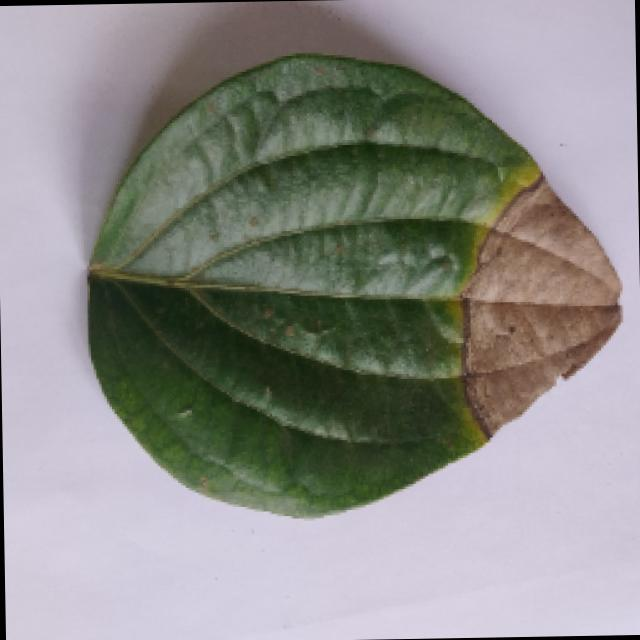footrot: (43, 47, 636, 537)
